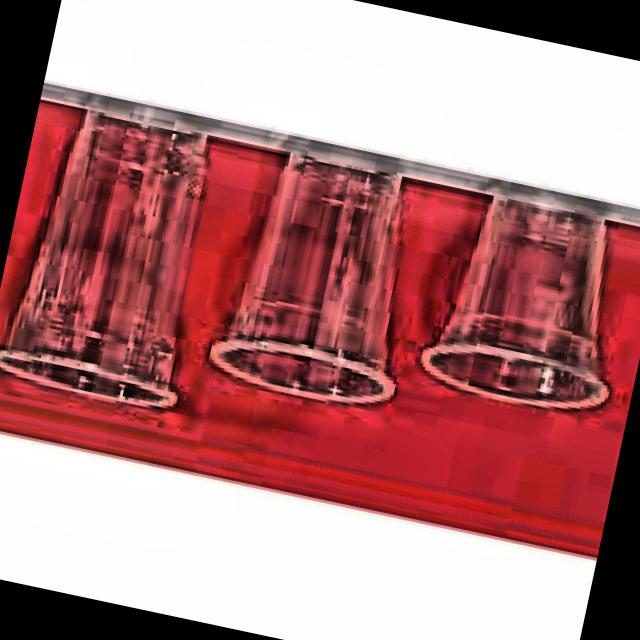plastic cup: (0, 79, 242, 428), (200, 133, 454, 437), (410, 170, 640, 443)
